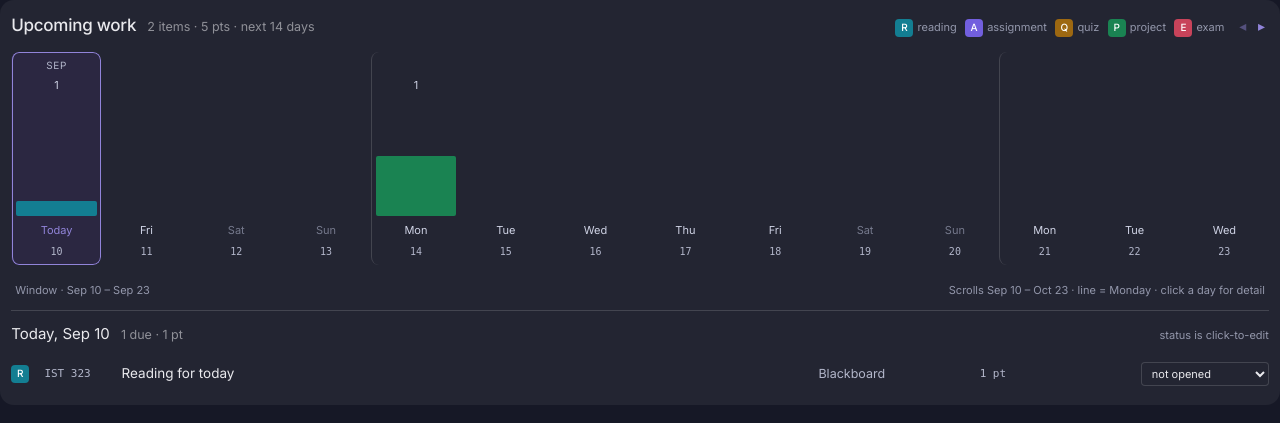
Test: UpcomingTracker — click to detail › says so plainly when a day has nothing due
Click the tab "Fri 11". click: (146, 159)
box: [101,52,191,266]
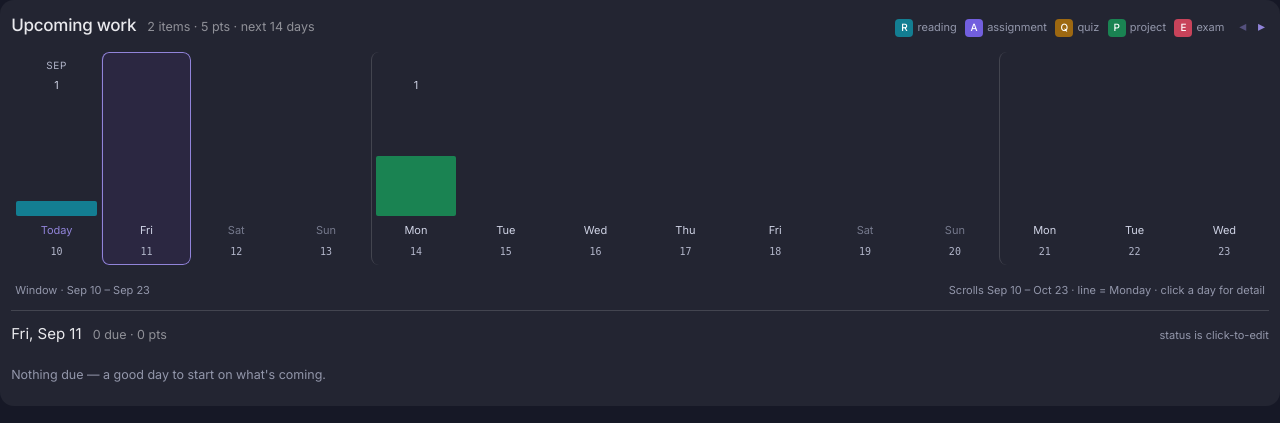
Expected: the text "0 due · 0 pts" is shown, [93,325,167,344]
Expected: the text "Nothing due — a good day to start on what's coming." is shown, [11,366,326,382]
